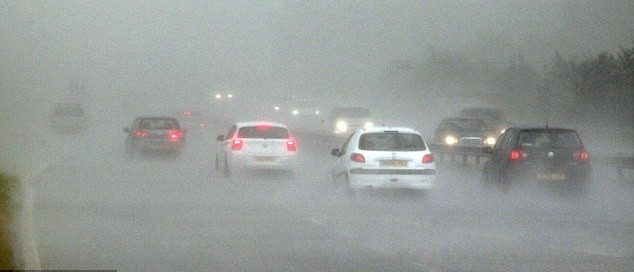car: (333, 127, 440, 196), (479, 126, 592, 186), (221, 120, 296, 174), (431, 113, 499, 158), (125, 115, 186, 156), (458, 106, 513, 135), (45, 101, 90, 136), (328, 105, 375, 137), (172, 107, 208, 133), (290, 97, 322, 120)
